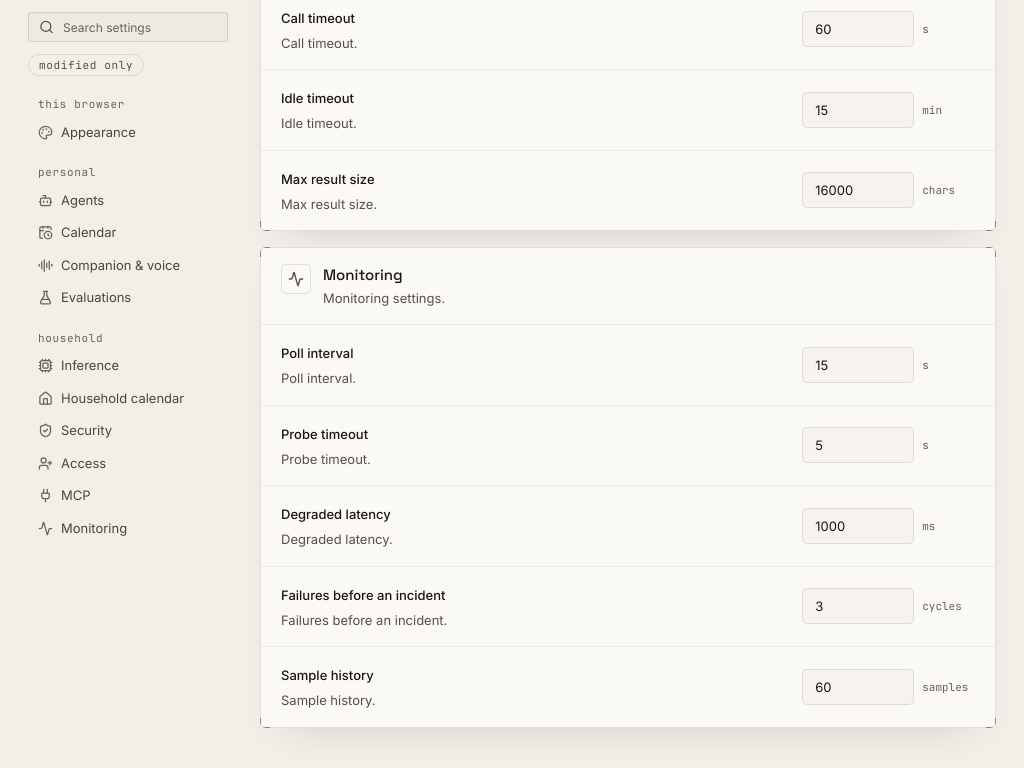
Test case: Settings validation › checks rules that span settings
(page scrolled)
Replace the text in the number field labelled "Probe timeout" with "30" at (858, 445), box x1=802 y1=427 x2=914 y2=463
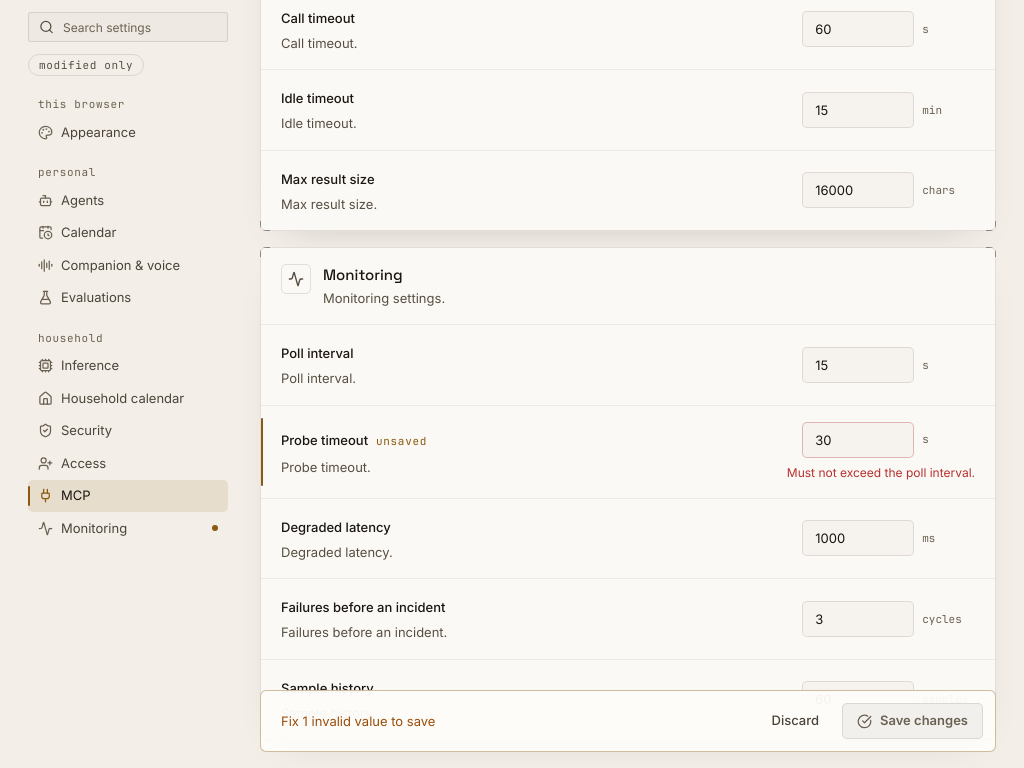
Check: the text "Must not exceed the poll interval." is shown, box x1=787 y1=464 x2=975 y2=482
Check: the button "Save changes" is disabled, box x1=842 y1=703 x2=983 y2=739
